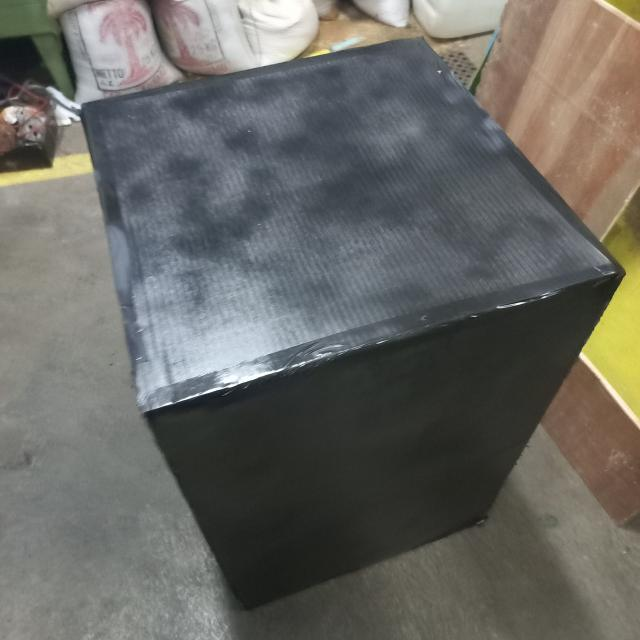obstacle: (79, 32, 632, 612)
